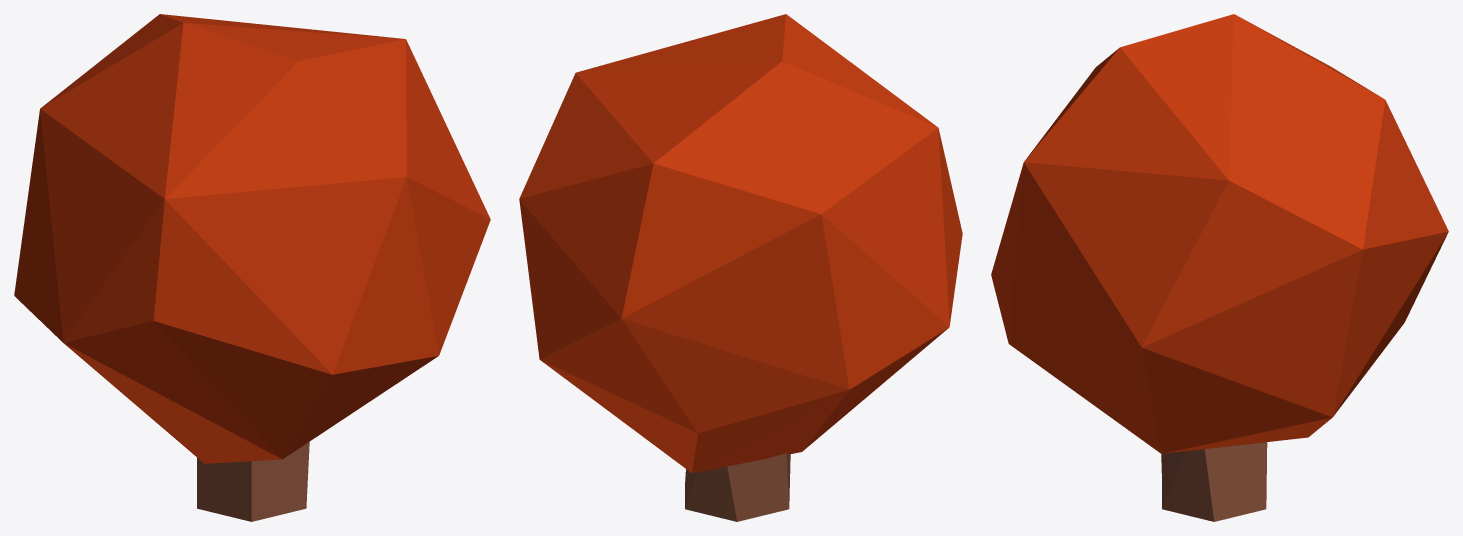
File: Bush_3_summer_red_mat.fbx
3 renders of one model, left to right at view 1: azimuth 30°, elevation 25°; view 2: azimuth 150°, elevation 25°; view 3: azimuth 270°, elevation 25°, orthographic. The views are drawn at different scales.
Parts seen in each view (by area): view 1: Bush_3_summer_red_mat; view 2: Bush_3_summer_red_mat; view 3: Bush_3_summer_red_mat.
Boxes of the visible parts, x1,y1,x2,y2 form: Bush_3_summer_red_mat: [14, 14, 490, 521]; Bush_3_summer_red_mat: [519, 14, 962, 521]; Bush_3_summer_red_mat: [991, 14, 1448, 521].
Bounding box in the file's own units: 35 × 39.36 × 35.84.
